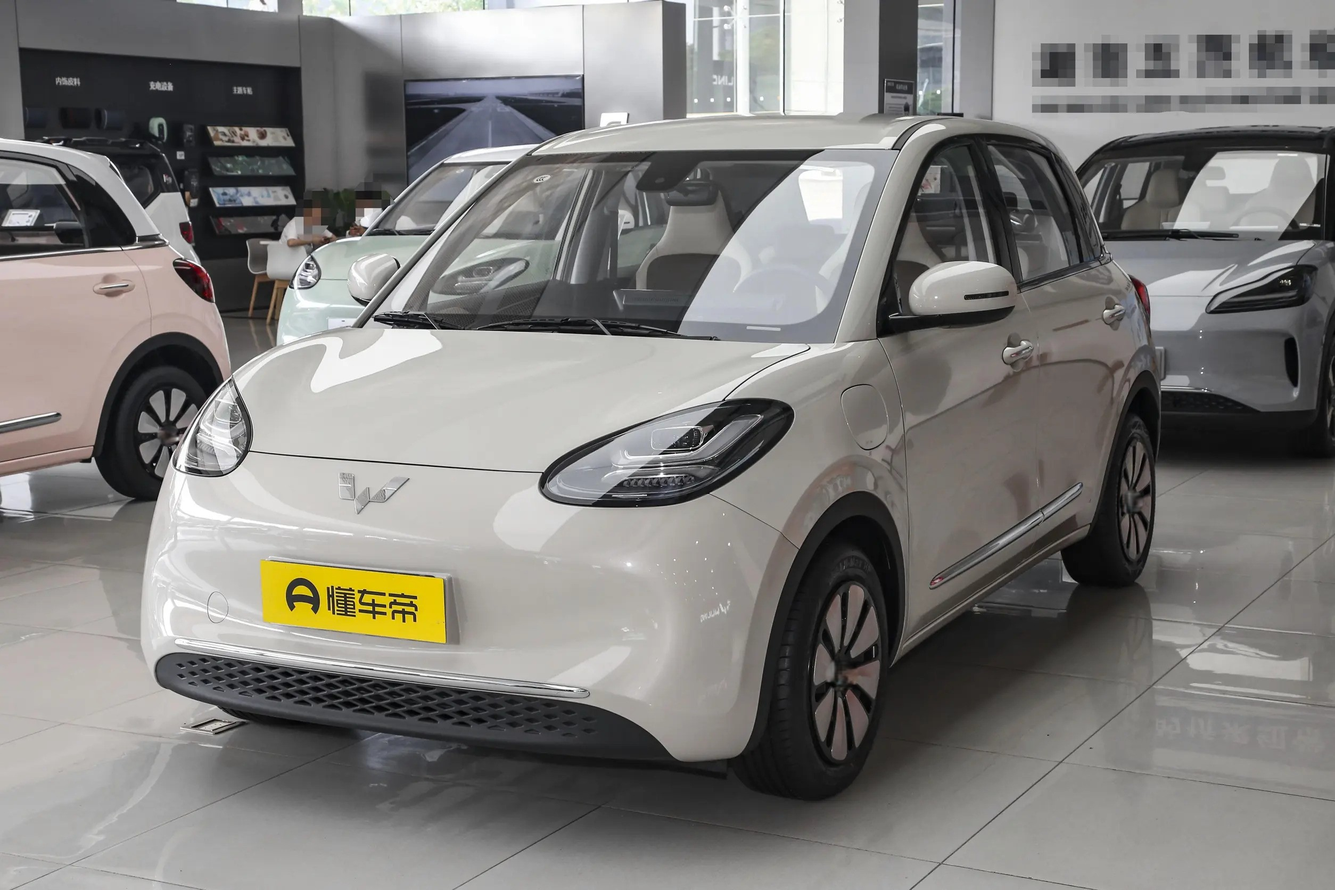SGMW: (339, 473, 409, 514)
